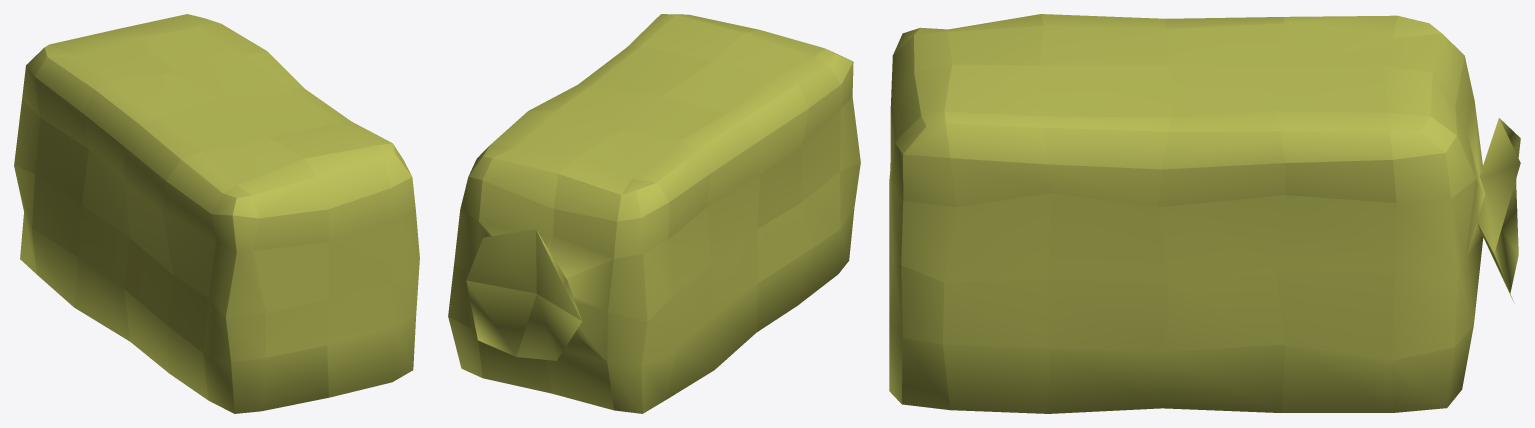
The model's file is p_Bread.fbx.
3 views of the same model, side by side, from view 1: azimuth 30°, elevation 25°; view 2: azimuth 150°, elevation 25°; view 3: azimuth 270°, elevation 25° (orthographic). The views are drawn at different scales.
Parts seen in each view (by area): view 1: p_Bread; view 2: p_Bread; view 3: p_Bread.
Boxes of the visible parts, x1,y1,x2,y2 form: p_Bread: [14, 14, 419, 413]; p_Bread: [448, 14, 860, 413]; p_Bread: [889, 14, 1520, 413].
Bounding box in the file's own units: 12.34 × 12.55 × 25.
